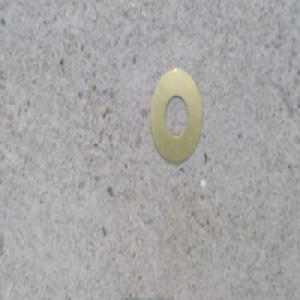Washer: (147, 65, 202, 164)
